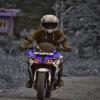motorcycles: (28, 44, 66, 98)
